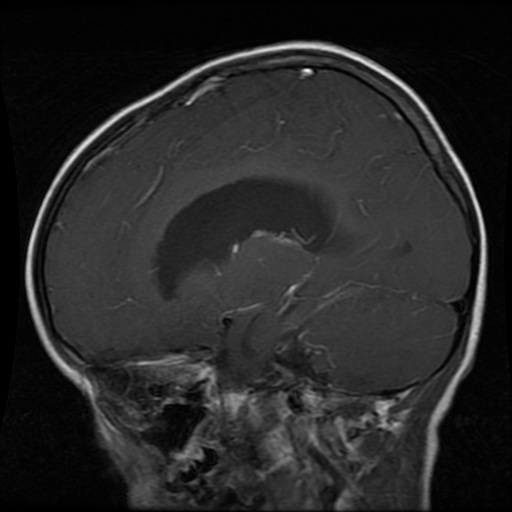glioma: (156, 174, 356, 304)
